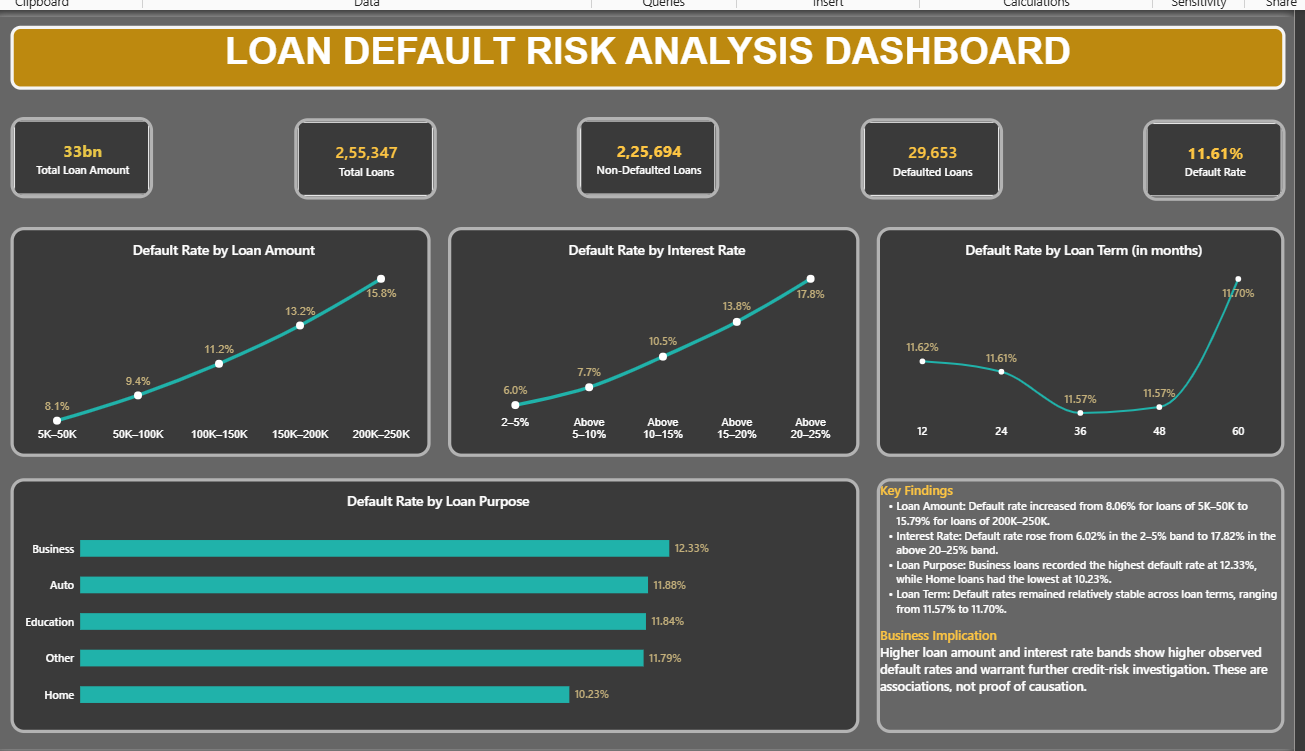

The dashboard page shown, as its layout file describes it:
{"tool":"powerbi","page":{"name":"Loan Portfolio & Default Overview","canvas":[1920,1080],"ordinal":0},"visuals":[{"type":"cardVisual","fields":{"Data":["#Measures.Total Loan Amount"]},"box":[25.8,147.6,210,120],"z":0},{"type":"cardVisual","fields":{"Data":["#Measures.Total Loans"]},"box":[443.7,149.4,210,120],"z":1},{"type":"cardVisual","fields":{"Data":["#Measures.Non-Defaulted Loans"]},"box":[861.5,147.6,210,120],"z":2},{"type":"cardVisual","fields":{"Data":["#Measures.Defaulted Loans"]},"box":[1279.3,149.4,210,120],"z":3},{"type":"cardVisual","fields":{"Data":["#Measures.Default Rate"]},"box":[1697.2,151.3,210.3,119.9],"z":4},{"type":"clusteredBarChart","title":"Default Rate by Loan Purpose","fields":{"Category":["Loan_default.LoanPurpose"],"Y":["#Measures.Default Rate"]},"box":[25.8,680.7,1252.6,376.3],"z":5},{"type":"textbox","box":[25.8,12.9,1881.6,94.1],"z":10},{"type":"lineChart","title":"Default Rate by Loan Amount","fields":{"Category":["Loan_default.Loan Amount Band"],"Y":["#Measures.Default Rate"]},"box":[25.8,309.9,619.8,339.4],"z":17},{"type":"lineChart","title":"Default Rate by Interest Rate","fields":{"Category":["Loan_default.Interest Rate Band"],"Y":["#Measures.Default Rate"]},"box":[671.5,309.9,606.9,339.4],"z":19},{"type":"lineChart","title":"Default Rate by Loan Term (in months)","fields":{"Category":["Loan_default.LoanTerm"],"Y":["#Measures.Default Rate"]},"box":[1304.2,309.9,601.4,339.4],"z":21},{"type":"textbox","box":[1304.2,680.7,601.4,376.3],"z":22}]}

Visuals, with their boxes in screenshot pixels (x1, y1, x2, y2):
cardVisual - #Measures.Total Loan Amount: bbox=[14, 116, 155, 196]
cardVisual - #Measures.Total Loans: bbox=[294, 117, 435, 198]
cardVisual - #Measures.Non-Defaulted Loans: bbox=[574, 116, 715, 196]
cardVisual - #Measures.Defaulted Loans: bbox=[854, 117, 995, 198]
cardVisual - #Measures.Default Rate: bbox=[1134, 118, 1275, 199]
"Default Rate by Loan Purpose" clusteredBarChart: bbox=[14, 473, 853, 725]
textbox: bbox=[14, 26, 1275, 89]
"Default Rate by Loan Amount" lineChart: bbox=[14, 225, 429, 452]
"Default Rate by Interest Rate" lineChart: bbox=[447, 225, 853, 452]
"Default Rate by Loan Term (in months)" lineChart: bbox=[871, 225, 1274, 452]
textbox: bbox=[871, 473, 1274, 725]
